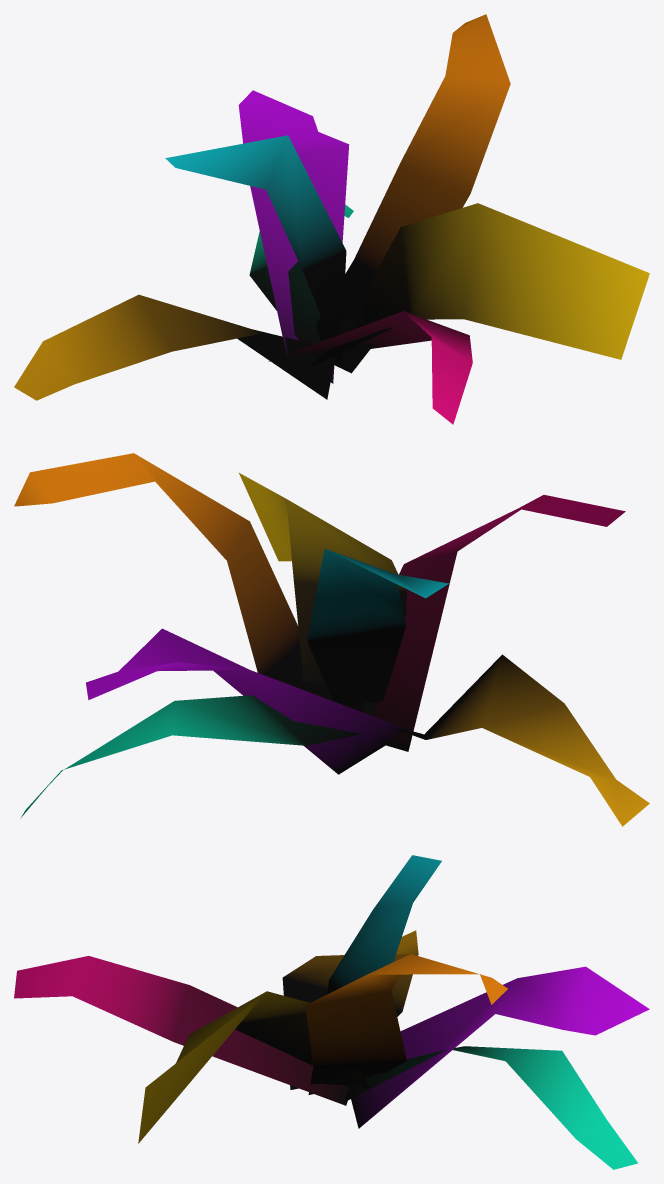
Rendered from fern_02_a.glb.
3 renders of one model, top to bottom at view 1: azimuth 30°, elevation 25°; view 2: azimuth 150°, elevation 25°; view 3: azimuth 270°, elevation 25°, orthographic. The views are drawn at different scales.
Visible parts, largest first — view 1: fern_02_a; view 2: fern_02_a; view 3: fern_02_a.
Part boxes in pixels (x1=…): fern_02_a: x1=14, y1=14, x2=649, y2=424; fern_02_a: x1=14, y1=453, x2=649, y2=826; fern_02_a: x1=14, y1=855, x2=649, y2=1169.
Bounding box in the file's own units: 0.5401 × 0.2698 × 0.6102.
